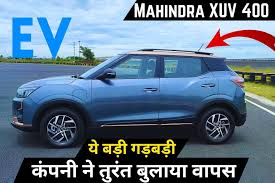XUV 400: (10, 45, 248, 146)
